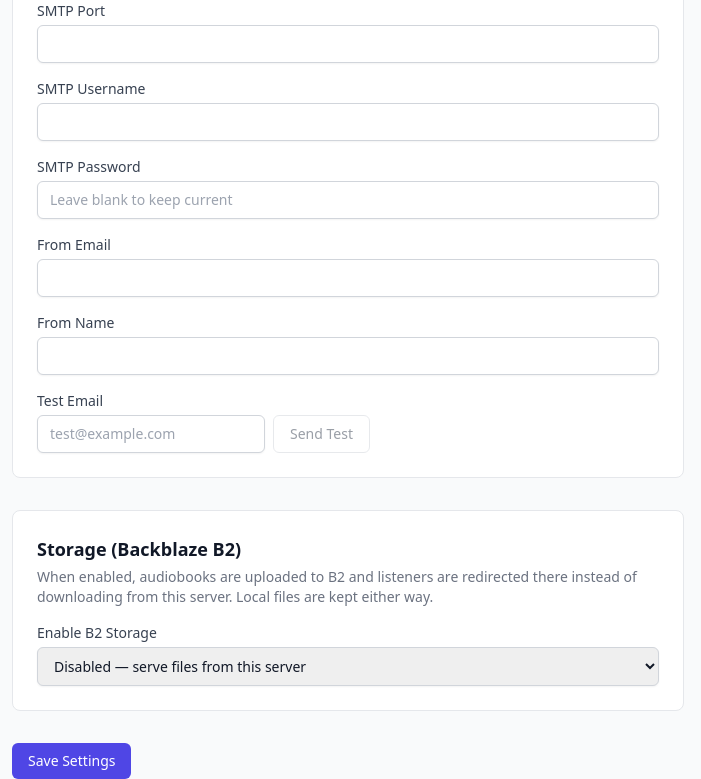
SettingsPage › surfaces a rejected save instead of claiming success
(page scrolled)
Click the button "Save Settings" at (72, 761), box [12,743,132,778]
(page scrolled)
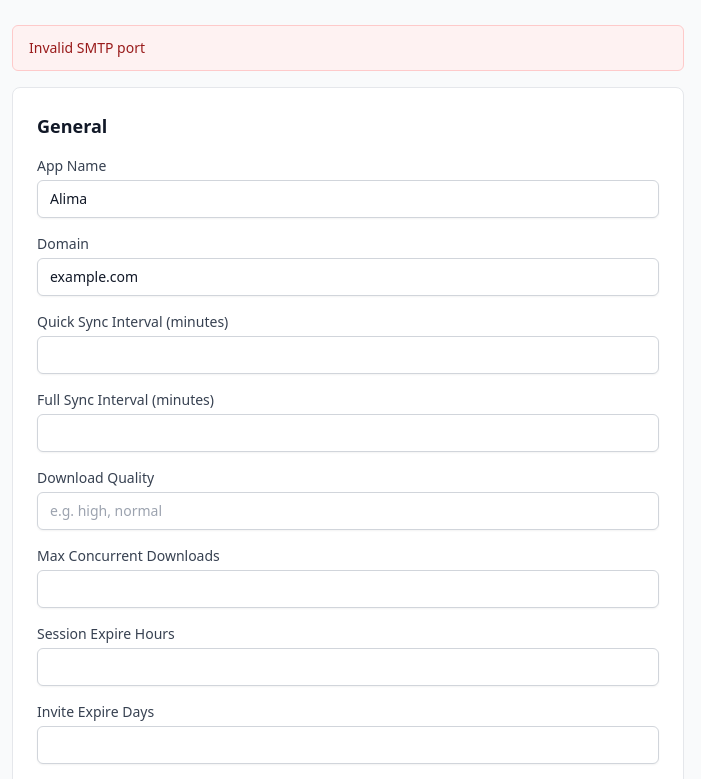
Now the text "Invalid SMTP port" is shown, box [12,25,684,71]
